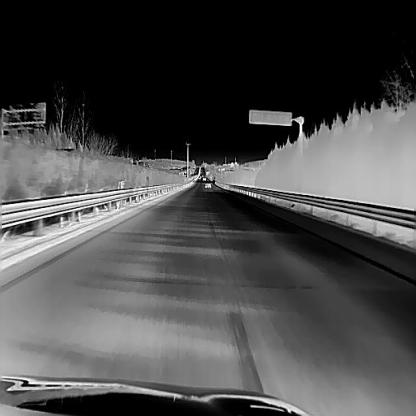car: (204, 178, 210, 187)
